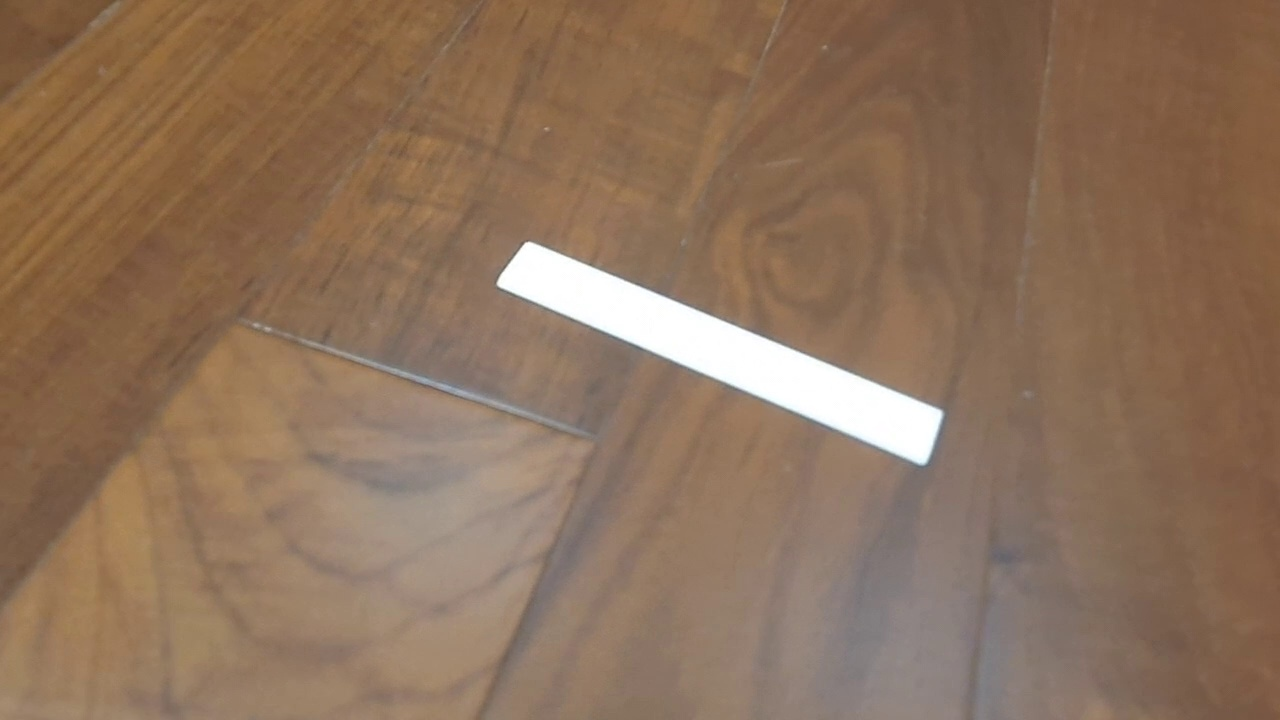ruler: (493, 239, 947, 470)
